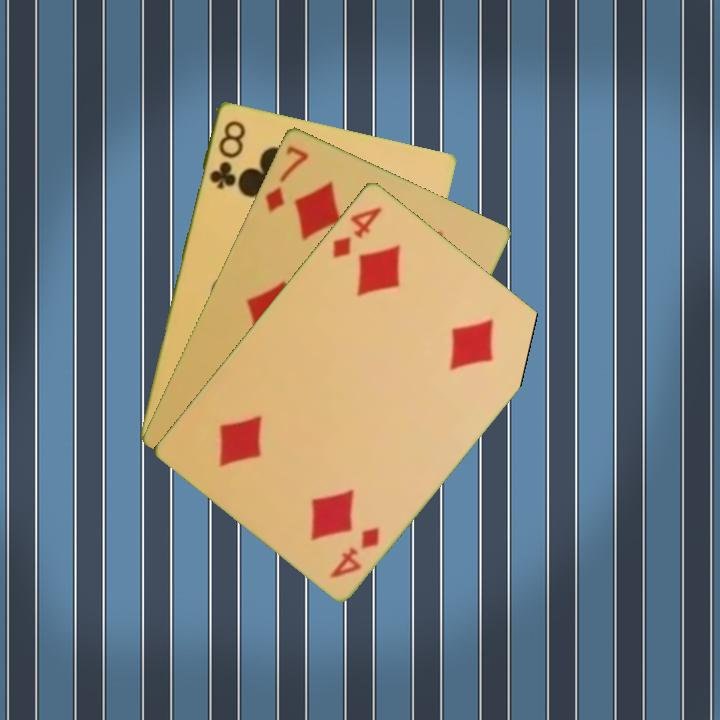4d: (328, 202, 385, 261), (326, 522, 383, 581)
7d: (261, 141, 312, 215)
8c: (205, 116, 248, 192)
